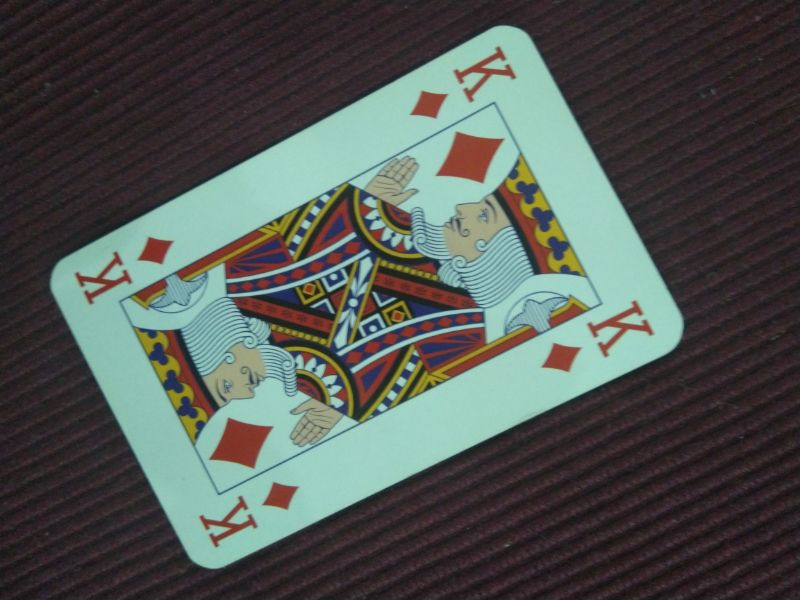Kd: (539, 295, 659, 376), (407, 45, 518, 123), (196, 477, 302, 551), (73, 235, 177, 309)
